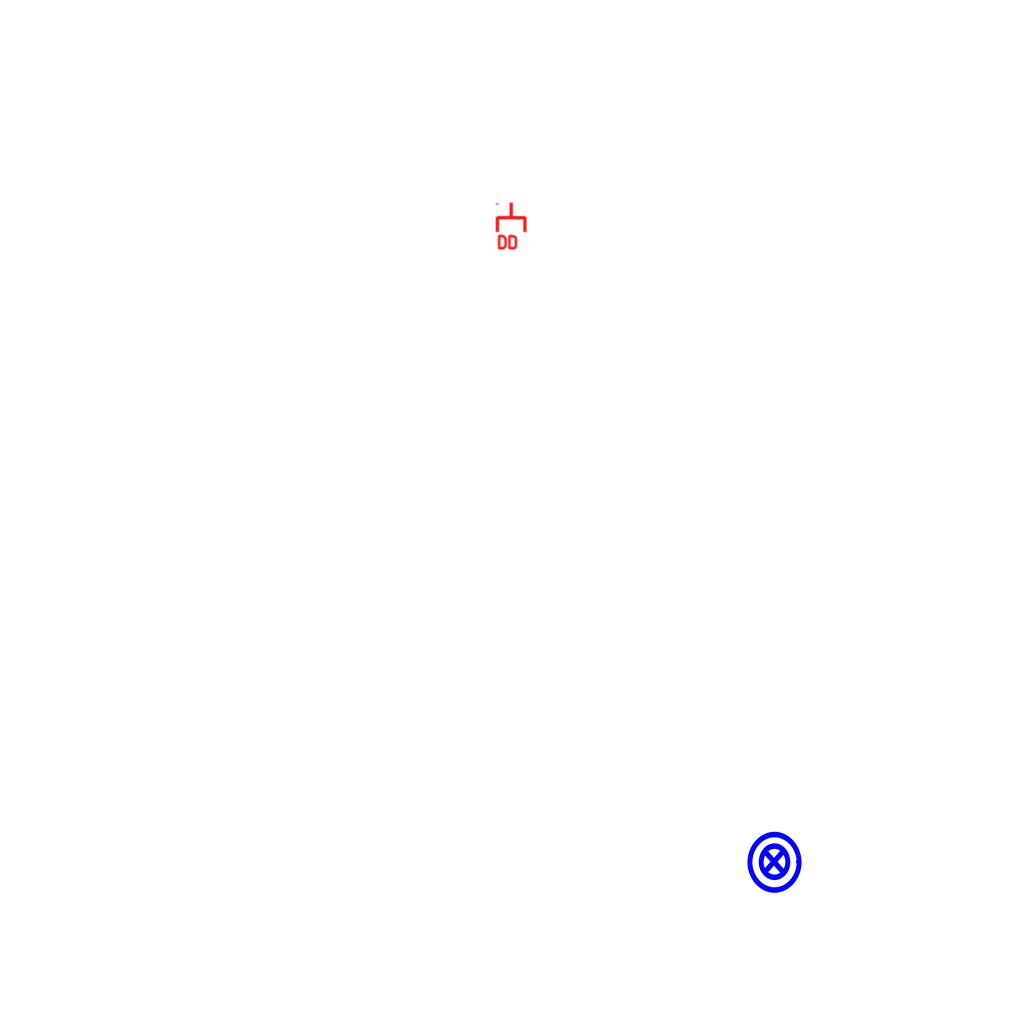Datenanschluss_zweifach: (495, 201, 529, 252)
Taster_beleuchtet: (741, 829, 807, 895)
